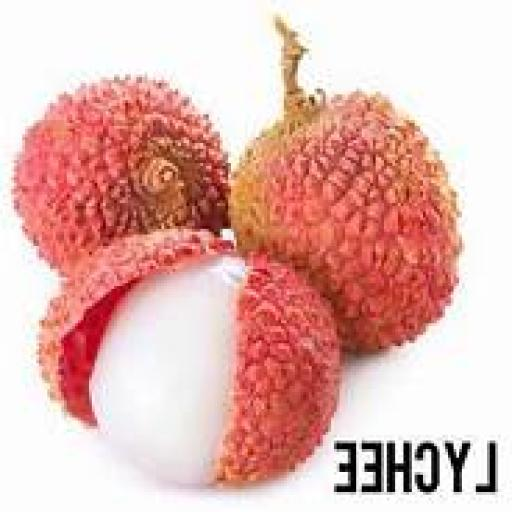lychee: (38, 229, 338, 483), (230, 21, 460, 348), (13, 78, 227, 274)
